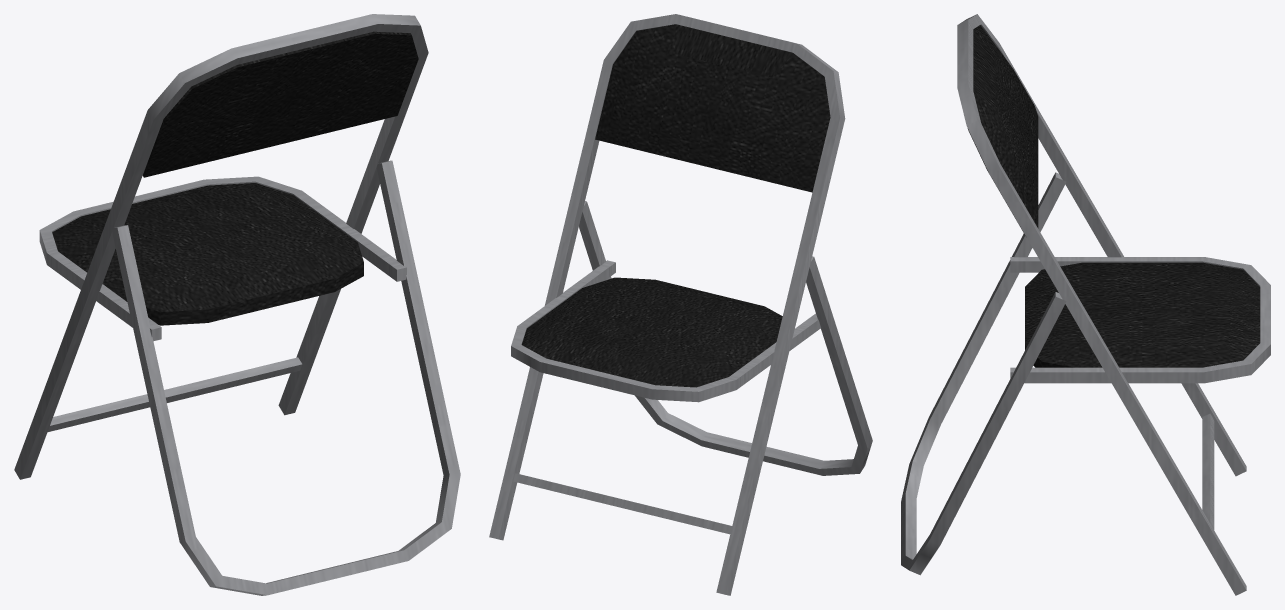
The model's file is FUR0210011.fbx.
The picture shows the model from 3 angles, left to right: view 1: azimuth 30°, elevation 25°; view 2: azimuth 150°, elevation 25°; view 3: azimuth 270°, elevation 25°; orthographic projection. The views are drawn at different scales.
Parts seen in each view (by area): view 1: smFUR0210011; view 2: smFUR0210011; view 3: smFUR0210011.
Boxes of the visible parts, x1=… form: smFUR0210011: x1=14, y1=14, x2=460, y2=595; smFUR0210011: x1=489, y1=14, x2=872, y2=595; smFUR0210011: x1=901, y1=14, x2=1270, y2=595.
Size of the model in its own units: 62.77 by 115 by 78.93.
1 material, 1 textured.
